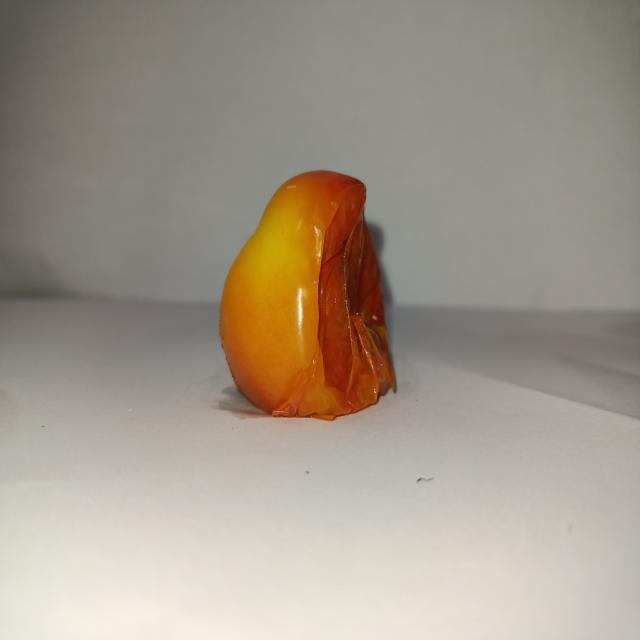Red: (218, 168, 397, 420)
